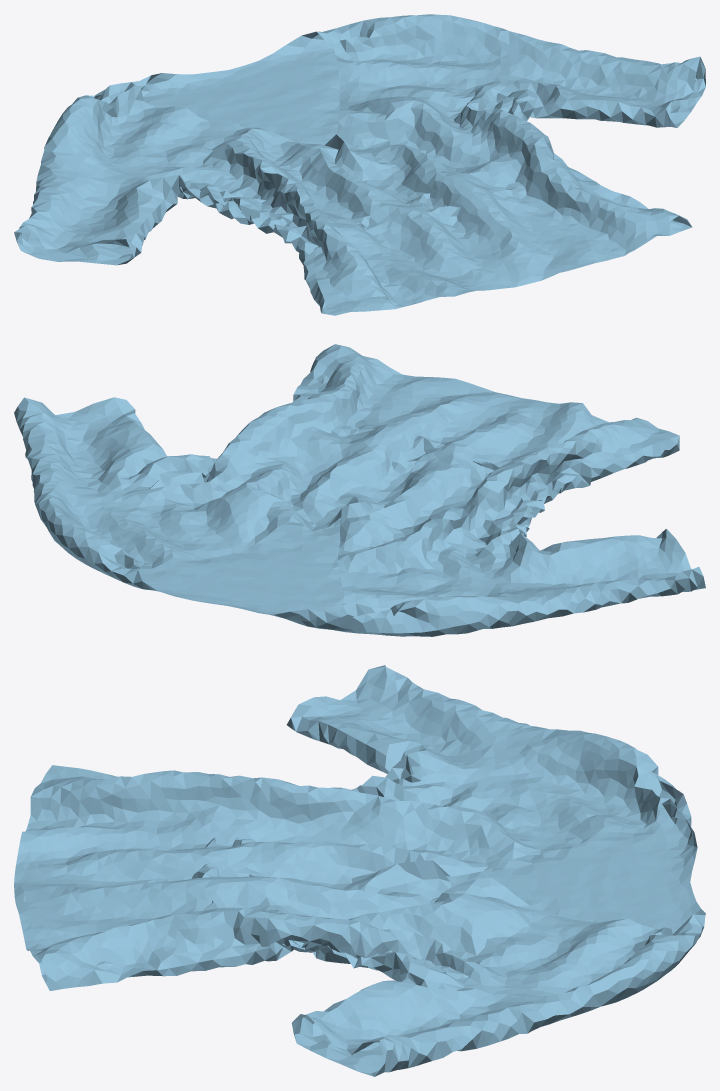
Rendered from frame_01.glb.
The picture shows the model from 3 angles, top to bottom: view 1: azimuth 30°, elevation 25°; view 2: azimuth 150°, elevation 25°; view 3: azimuth 270°, elevation 25°; orthographic projection. The views are drawn at different scales.
Parts seen in each view (by area): view 1: frame_01.obj; view 2: frame_01.obj; view 3: frame_01.obj.
Boxes of the visible parts, <box> form: frame_01.obj: <box>14,14,705,315</box>; frame_01.obj: <box>14,344,705,636</box>; frame_01.obj: <box>14,665,705,1076</box>.
Size of the model in its own units: 1.99 by 0.1163 by 1.48.
